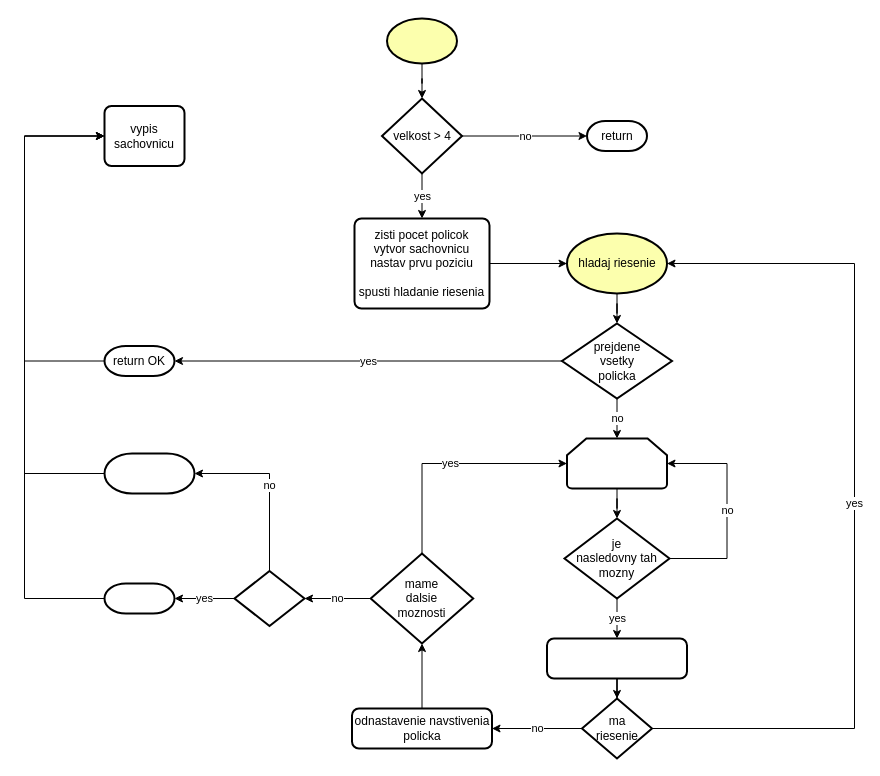
Some shapes in this 880 by 776 pixel diagram are drawn without their labels. Each missing label, with the centre of its shape:
"inicializuj" belongs at (x=422, y=40).
"nastavenie navstivenia policka" belongs at (x=617, y=658).
"pre legalne tahy 1 az 8" belongs at (x=617, y=463).
"return NEEXISTUJE" belongs at (x=149, y=473).
"return TLE" belongs at (x=139, y=598).
"TLE" belongs at (x=269, y=598).
